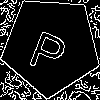P: (26, 21, 73, 76)
